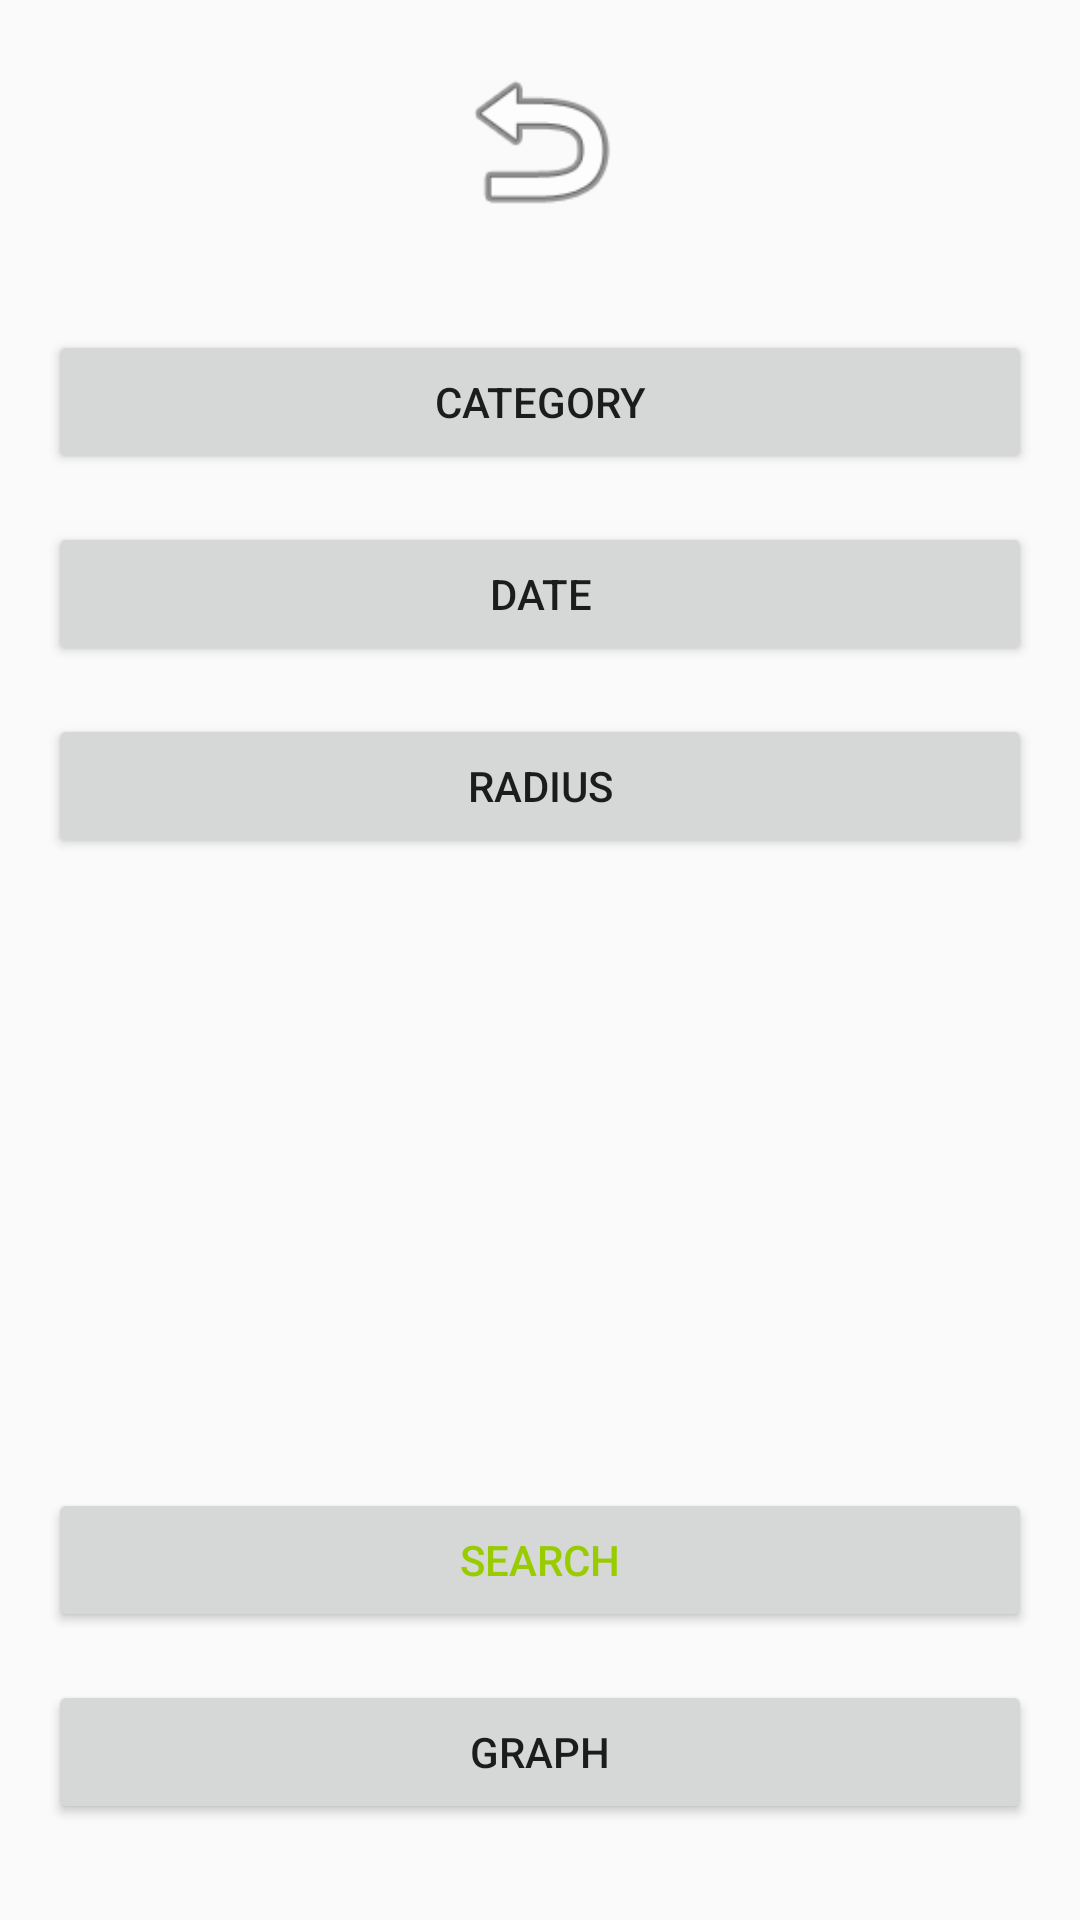

Named icons in this screenshot (1080×1920) and their centers, point (x, y):
revert: point (542, 142)
